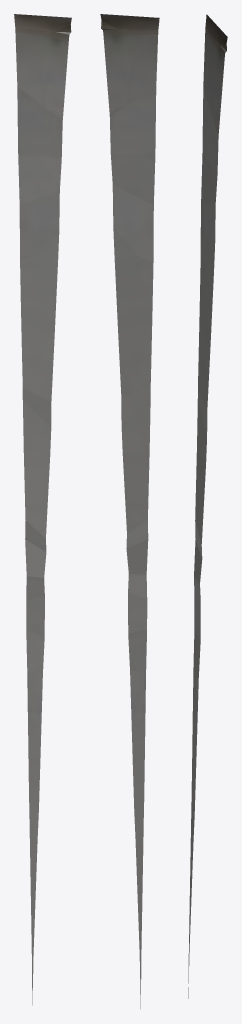
The picture shows the model from 3 angles, left to right: view 1: azimuth 30°, elevation 25°; view 2: azimuth 210°, elevation 25°; view 3: azimuth 330°, elevation 25°; orthographic projection. The views are drawn at different scales.
Size of the model in its own units: 0.0573 by 1.36 by 0.046.
Materials: 1 (1 with a texture image).
